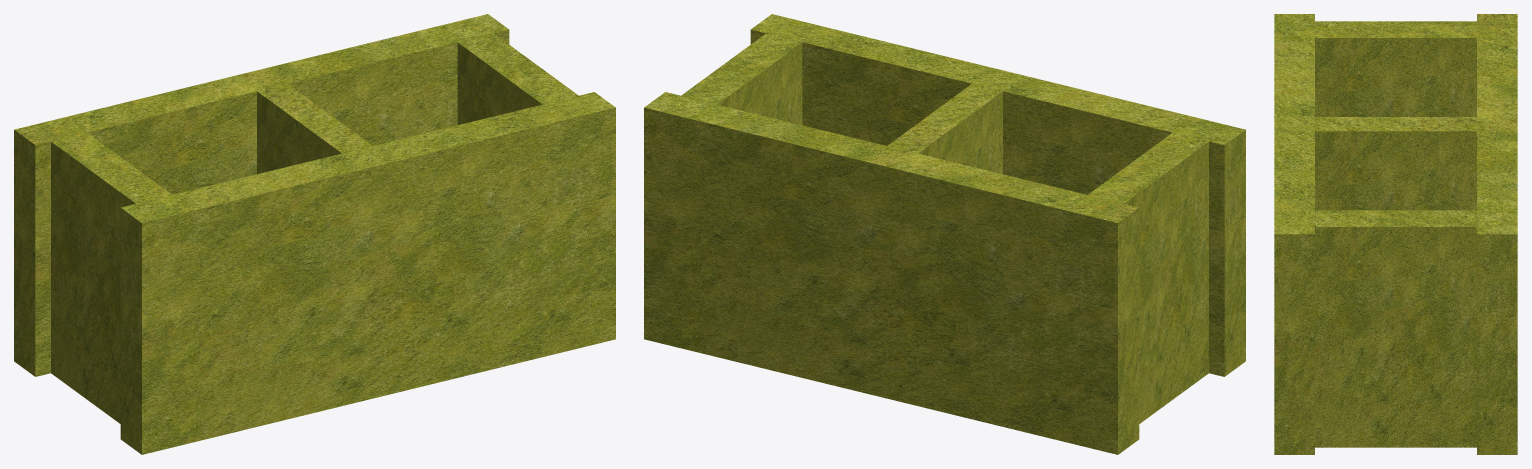
File: mossy_cinder_block.dae
The picture shows the model from 3 angles, left to right: view 1: azimuth 30°, elevation 25°; view 2: azimuth 150°, elevation 25°; view 3: azimuth 270°, elevation 25°; orthographic projection. The views are drawn at different scales.
Visible parts, largest first — view 1: CinderBlockm; view 2: CinderBlockm; view 3: CinderBlockm.
Part boxes in pixels (left/top/right/bottom): CinderBlockm: left=14, top=14, right=615, bottom=454; CinderBlockm: left=644, top=14, right=1245, bottom=454; CinderBlockm: left=1274, top=14, right=1517, bottom=454.
Size of the model in its own units: 17.12 by 8 by 8.
1 material, 1 textured.
